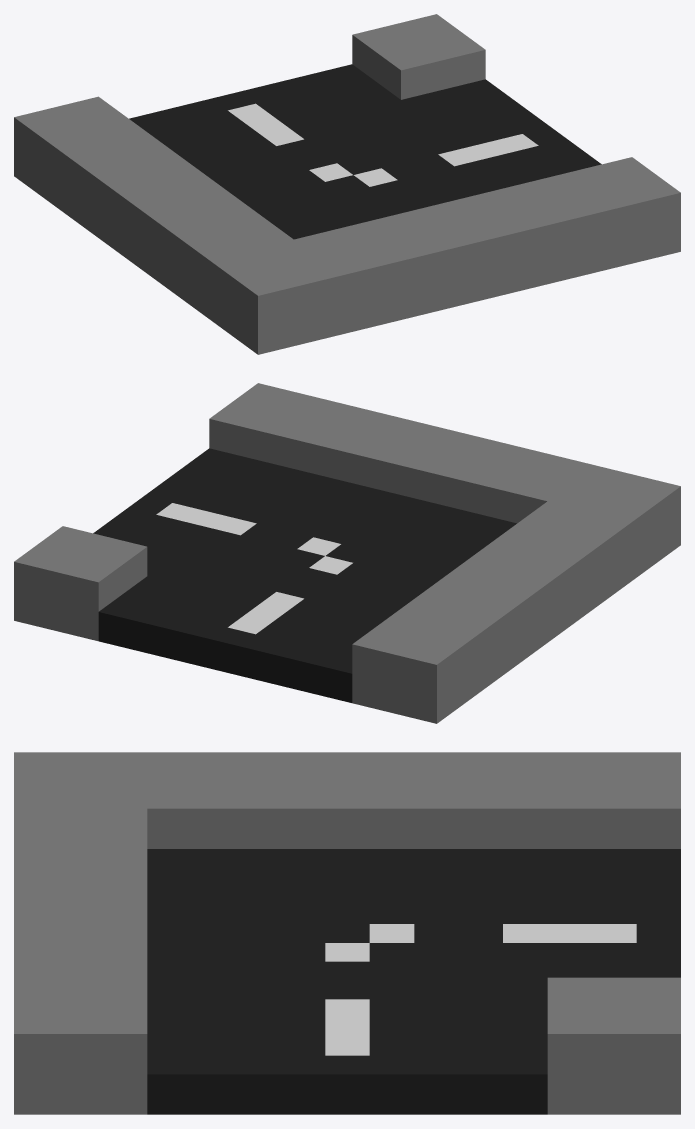
Rendered from SimpleTurn.obj.
3 views of the same model, one above another, from view 1: azimuth 30°, elevation 25°; view 2: azimuth 150°, elevation 25°; view 3: azimuth 270°, elevation 25° (orthographic). The views are drawn at different scales.
Visible parts, largest first — view 1: SimpleTurn; view 2: SimpleTurn; view 3: SimpleTurn.
Boxes of the visible parts, box(x1,y1,x2,y2) form: SimpleTurn: box(14, 14, 680, 354); SimpleTurn: box(14, 383, 680, 723); SimpleTurn: box(14, 752, 680, 1114).
Size of the model in its own units: 1.5 by 0.2 by 1.5.
Materials: 1 (1 with a texture image).
